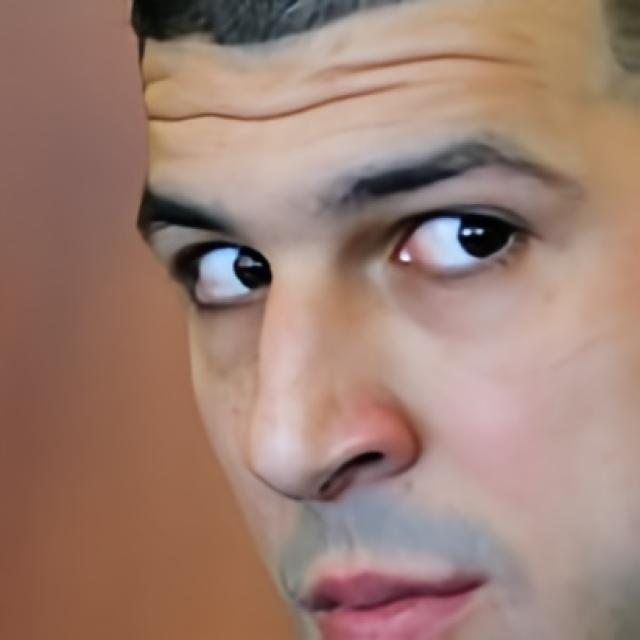surprise: (177, 73, 640, 640)
